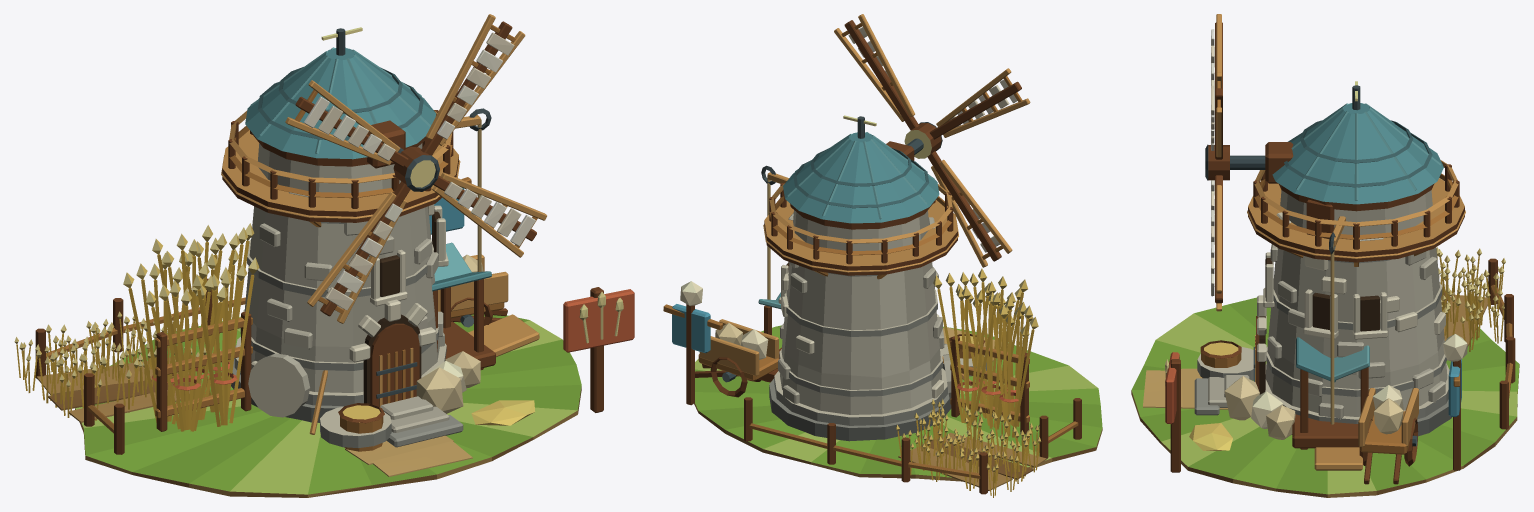
3 views of the same model, side by side, from view 1: azimuth 30°, elevation 25°; view 2: azimuth 150°, elevation 25°; view 3: azimuth 270°, elevation 25° (orthographic). The views are drawn at different scales.
Parts seen in each view (by area): view 1: WK_WheatFarm_LOD1_Balanced; view 2: WK_WheatFarm_LOD1_Balanced; view 3: WK_WheatFarm_LOD1_Balanced.
Boxes of the visible parts, bbox=[...] form: WK_WheatFarm_LOD1_Balanced: bbox=[14, 14, 634, 497]; WK_WheatFarm_LOD1_Balanced: bbox=[663, 14, 1102, 497]; WK_WheatFarm_LOD1_Balanced: bbox=[1131, 14, 1519, 497].
Size of the model in its own units: 12.46 by 10.09 by 9.66.
